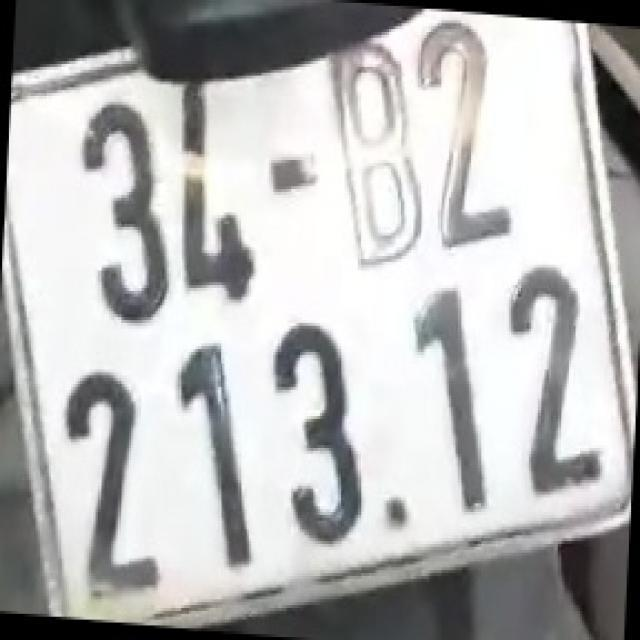1: (407, 279, 498, 518), (173, 338, 260, 570)
2: (502, 255, 614, 500), (58, 358, 169, 602), (414, 14, 524, 250)
3: (267, 314, 369, 547), (76, 96, 172, 323)
4: (176, 93, 260, 311)
B: (324, 41, 424, 270)
